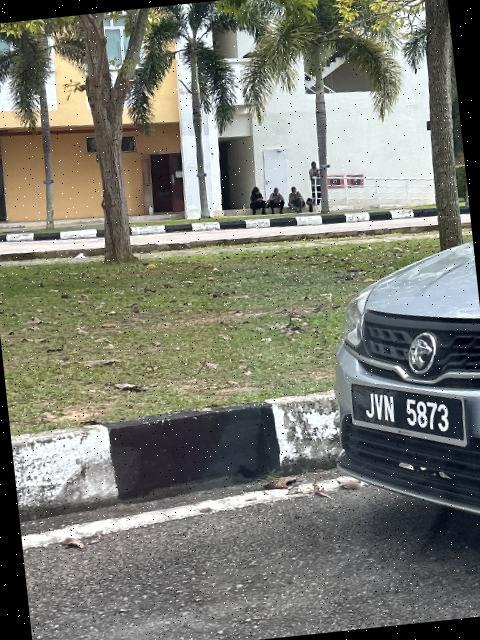JVN5873: (347, 370, 475, 467)
License_Plate: (347, 370, 475, 467)
